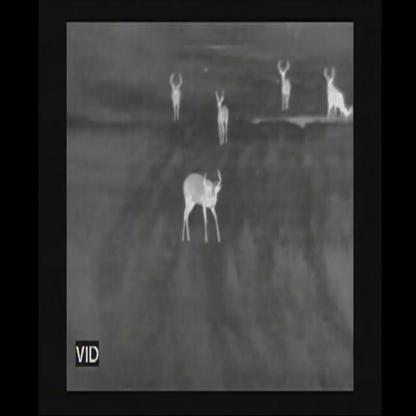rehkitze: (183, 171, 223, 247), (322, 66, 354, 121), (214, 91, 231, 150), (277, 56, 294, 113), (169, 69, 184, 123)
